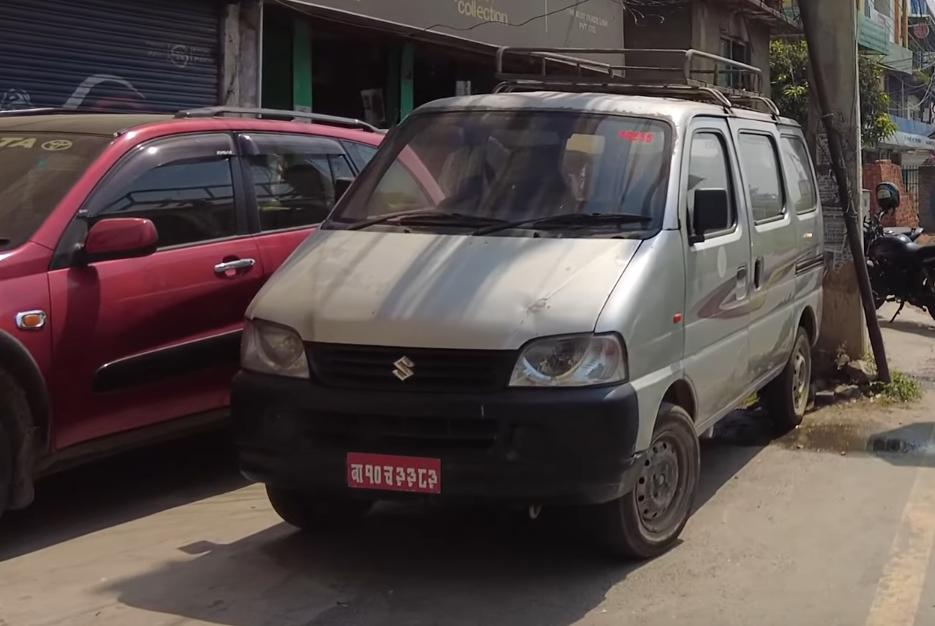bike: (852, 179, 935, 329)
car: (0, 102, 440, 522)
van: (214, 33, 845, 562)
